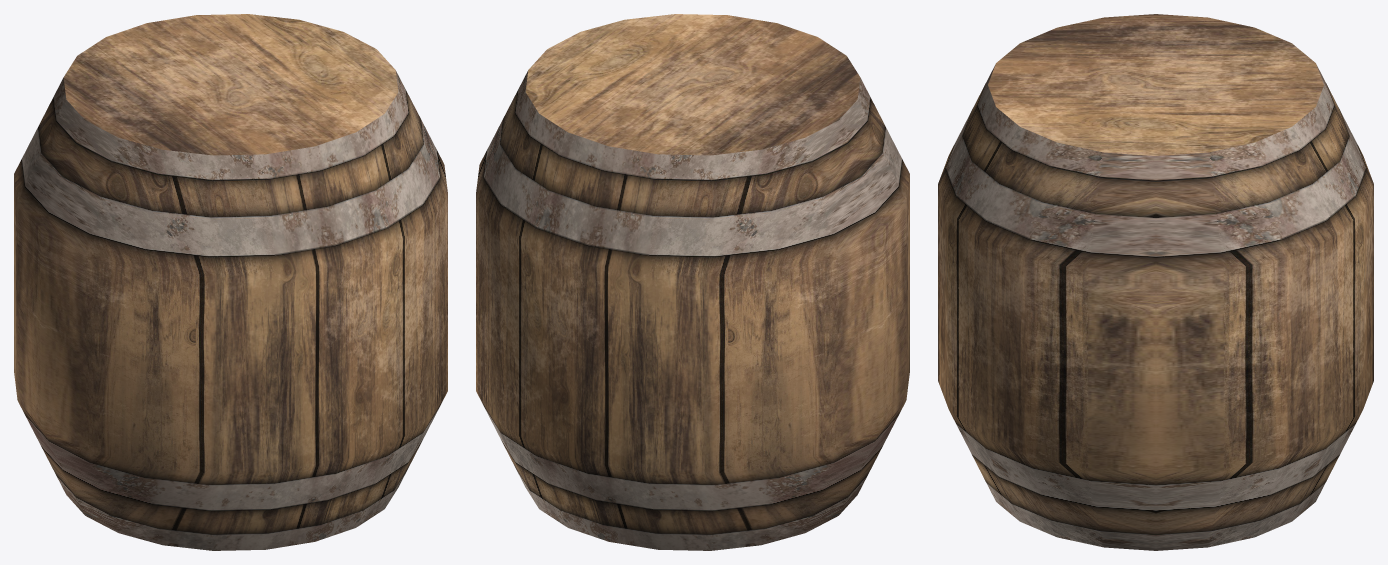
The model's file is barrel fixed.fbx.
3 renders of one model, left to right at view 1: azimuth 30°, elevation 25°; view 2: azimuth 150°, elevation 25°; view 3: azimuth 270°, elevation 25°, orthographic.
Parts seen in each view (by area): view 1: pCylinder2; view 2: pCylinder2; view 3: pCylinder2.
Boxes of the visible parts, x1,y1,x2,y2 form: pCylinder2: (14, 14, 447, 550); pCylinder2: (476, 14, 909, 550); pCylinder2: (938, 14, 1373, 550).
Size of the model in its own units: 2 by 2 by 2.
